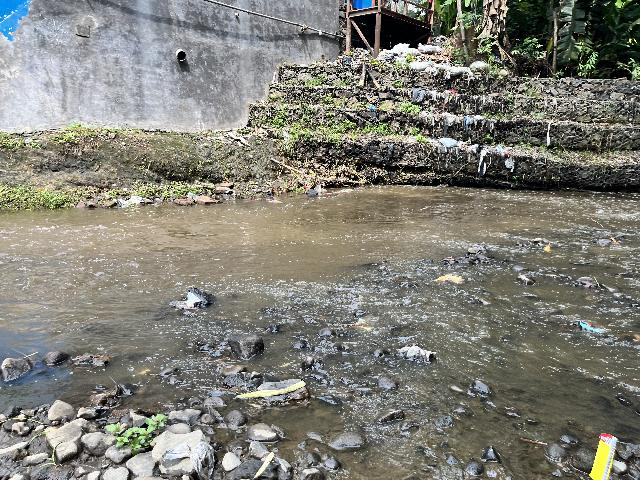Sampah Anorganik: (164, 286, 220, 313), (594, 430, 615, 479), (574, 319, 609, 335)
Sampah Organik: (231, 384, 308, 400), (427, 272, 464, 286), (543, 243, 553, 254), (609, 237, 620, 246)
